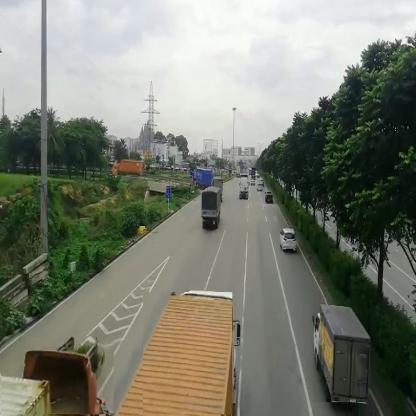car: (281, 230, 296, 252), (267, 192, 274, 206), (259, 184, 264, 193)
container: (144, 293, 234, 416), (1, 337, 115, 416), (113, 159, 144, 177), (191, 172, 212, 186)
truck: (314, 302, 371, 404), (202, 189, 221, 231), (241, 176, 251, 199)
